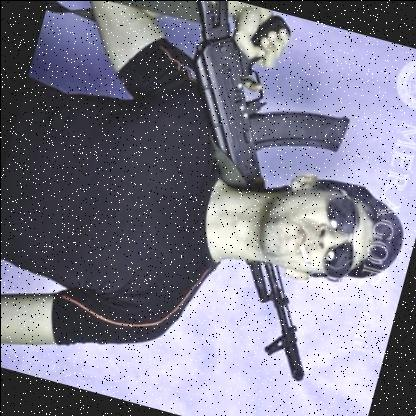rifle: (86, 0, 416, 392)
